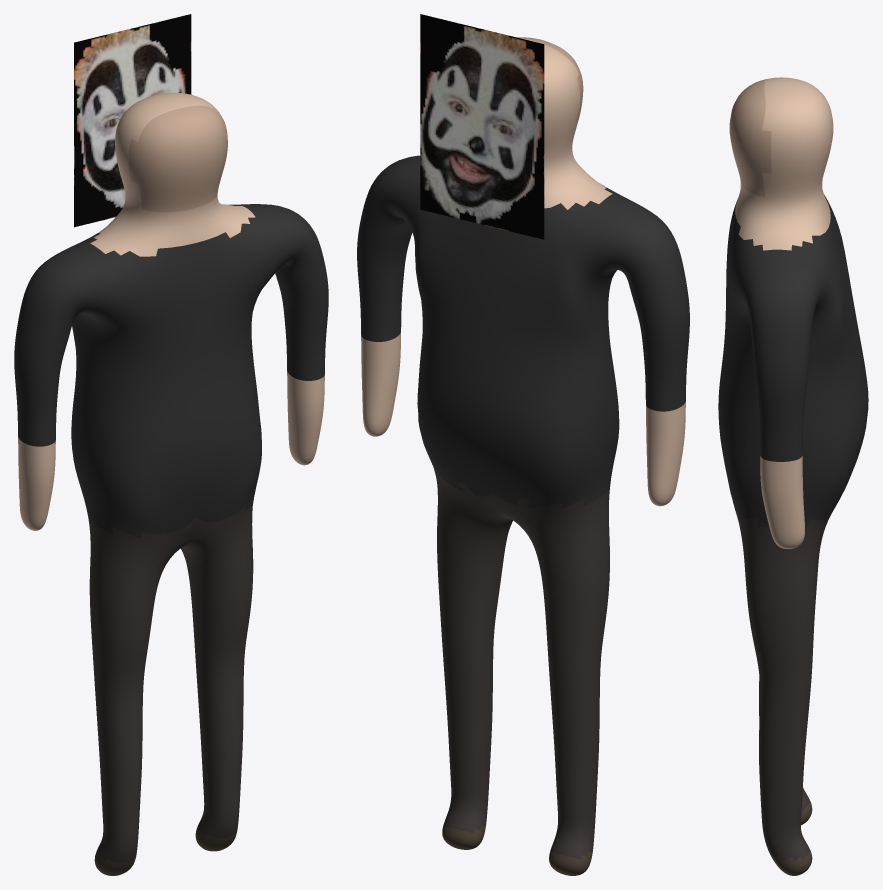
File: villain_fat.glb
The picture shows the model from 3 angles, left to right: view 1: azimuth 30°, elevation 25°; view 2: azimuth 150°, elevation 25°; view 3: azimuth 270°, elevation 25°; orthographic projection. The views are drawn at different scales.
Visible parts, largest first — view 1: villain_fat; view 2: villain_fat; view 3: villain_fat.
Part boxes in pixels (x1=…): villain_fat: x1=14, y1=14, x2=328, y2=875; villain_fat: x1=357, y1=14, x2=689, y2=875; villain_fat: x1=718, y1=77, x2=868, y2=875.
Bounding box in the file's own units: 0.7262 × 1.84 × 0.3106.
Materials: 6 (1 with a texture image).
